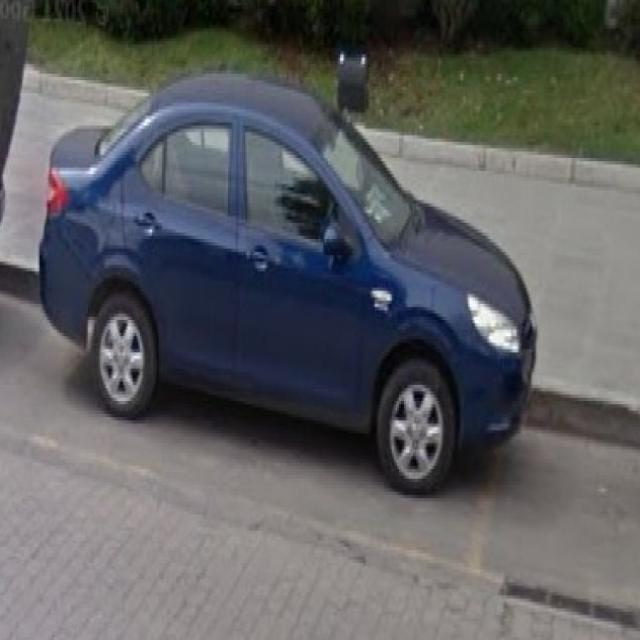car: (40, 60, 535, 492)
